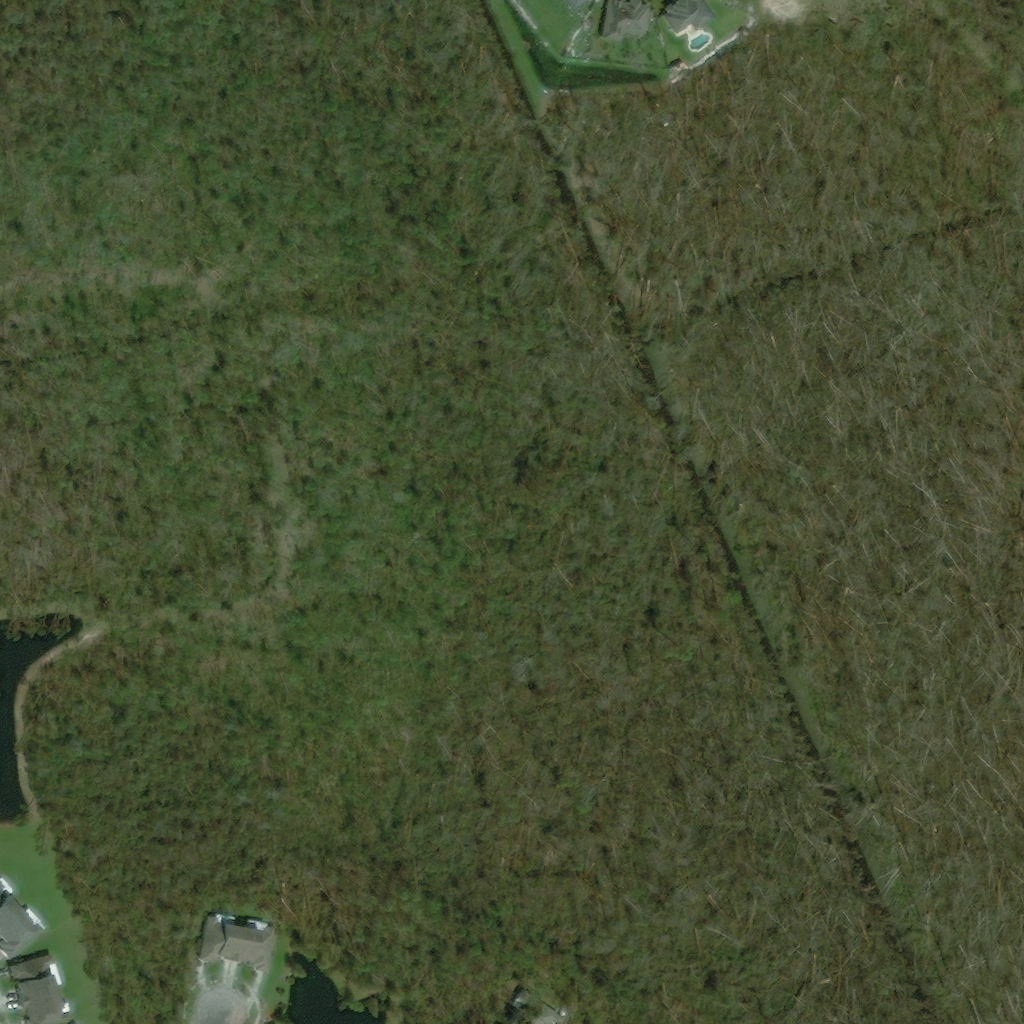no_damage: (5, 952, 70, 1023), (197, 916, 275, 973), (0, 871, 49, 960), (601, 0, 651, 42), (662, 0, 717, 35), (505, 990, 558, 1023)
unclassified: (566, 0, 586, 9)
